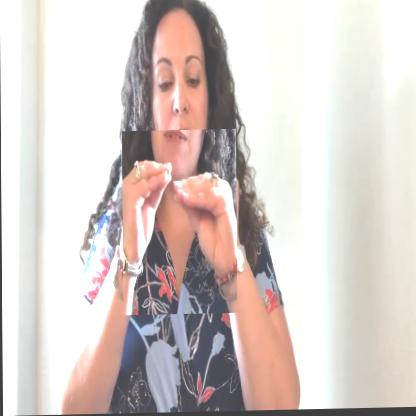Fix: (122, 130, 237, 316)
